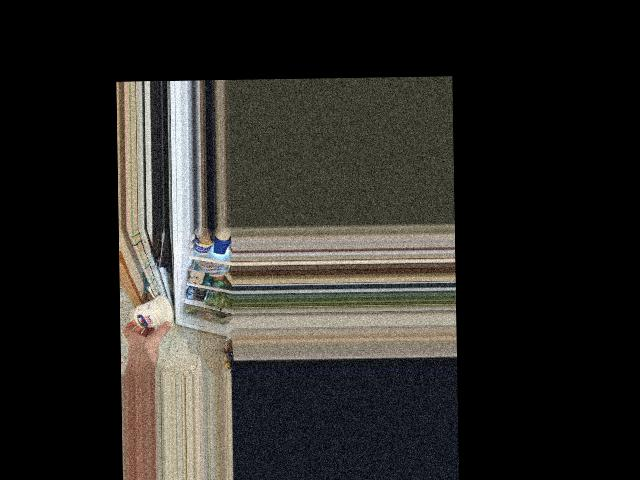cotage: (133, 295, 164, 332)
